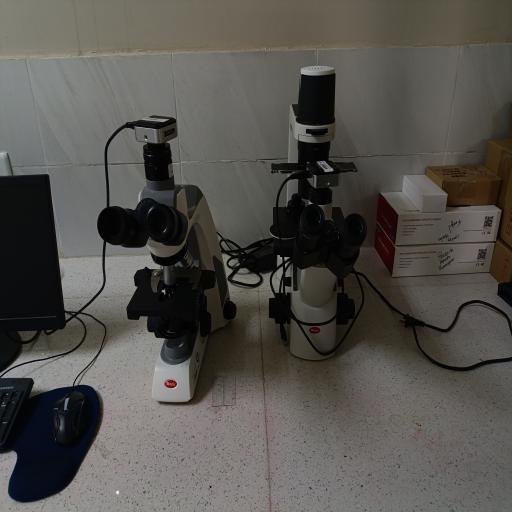Microscopio_camara: (80, 98, 255, 420)
